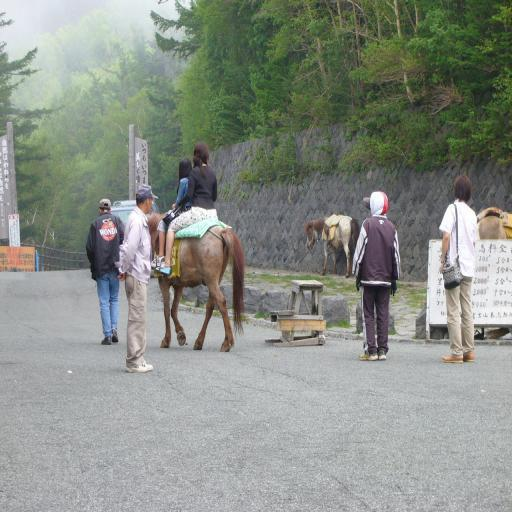horse: (144, 209, 248, 355), (304, 218, 360, 280), (476, 213, 508, 239)
